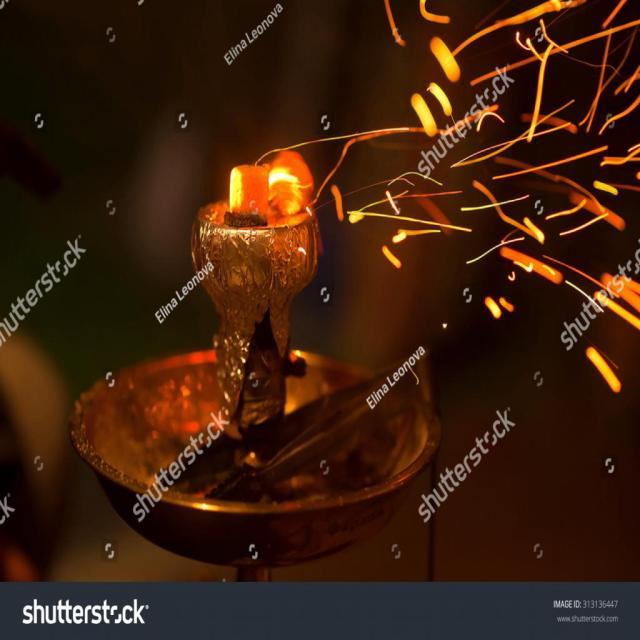smoking: (0, 137, 473, 640)
